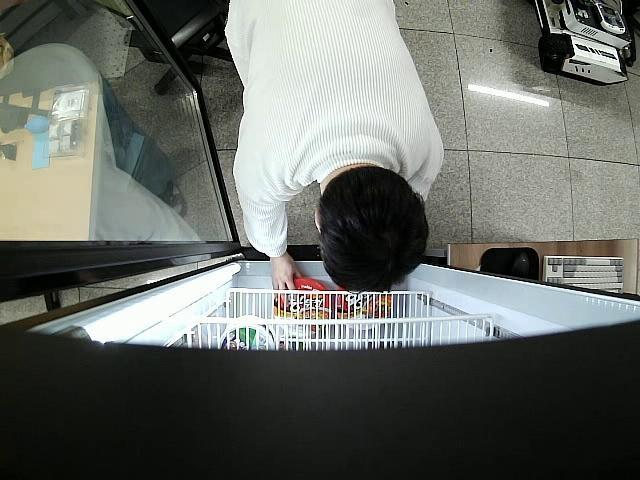10_wangTtukkeong: (272, 276, 332, 335)
